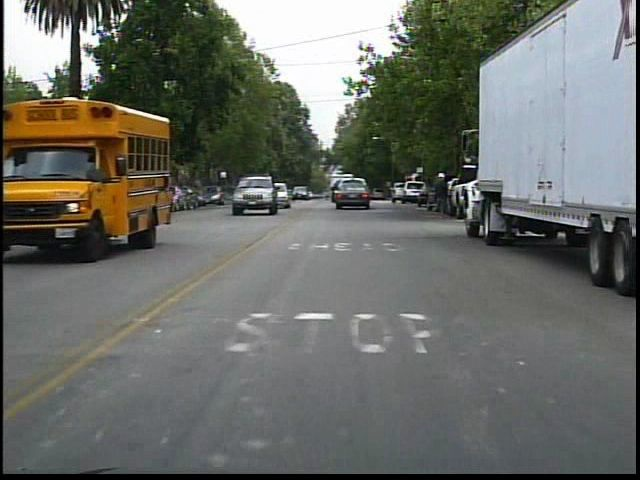person: (430, 170, 454, 220)
